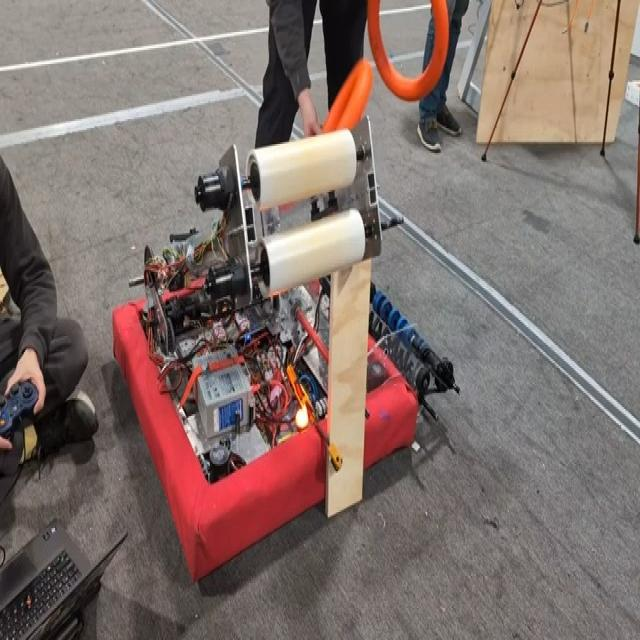note: (366, 0, 449, 99), (316, 56, 372, 154)
robot: (114, 114, 419, 578)
